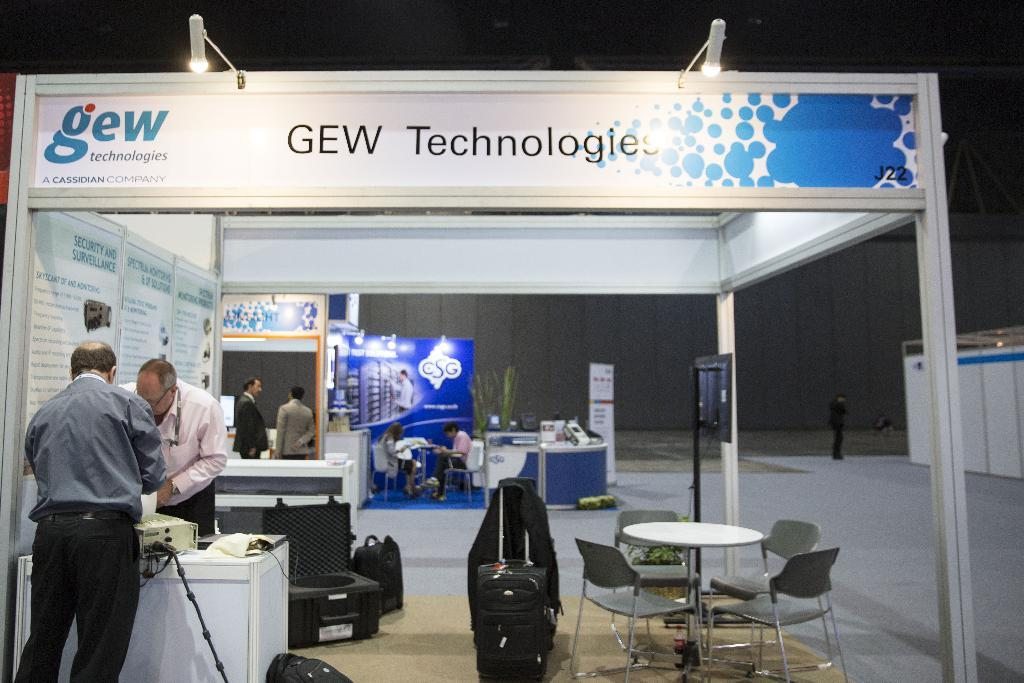Computer-monitor: (218, 393, 236, 428)
Luggage-and-bags: (351, 533, 403, 616)
